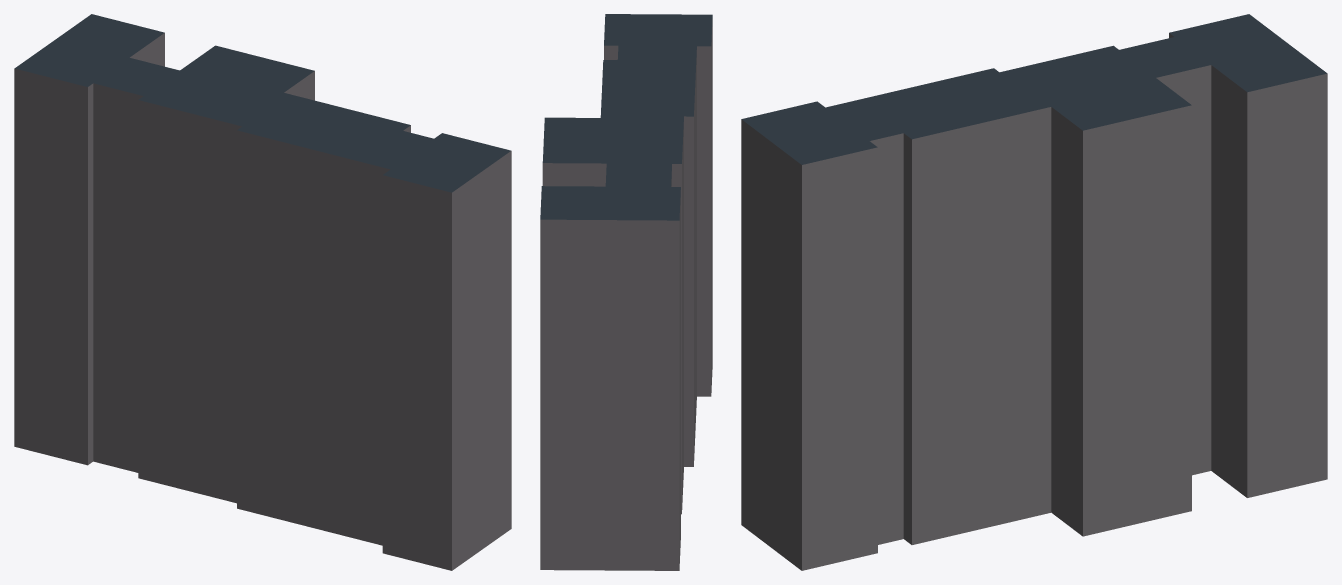
Rendered from nyc-1081126-0.glb.
3 renders of one model, left to right at view 1: azimuth 30°, elevation 25°; view 2: azimuth 150°, elevation 25°; view 3: azimuth 270°, elevation 25°, orthographic. The views are drawn at different scales.
Visible parts, largest first — view 1: nyc-1081126-0; view 2: nyc-1081126-0; view 3: nyc-1081126-0.
Part boxes in pixels (x1=…): nyc-1081126-0: x1=14, y1=14, x2=511, y2=570; nyc-1081126-0: x1=540, y1=14, x2=712, y2=570; nyc-1081126-0: x1=741, y1=14, x2=1327, y2=570.
Bounding box in the file's own units: 36.74 × 46.02 × 60.25.
